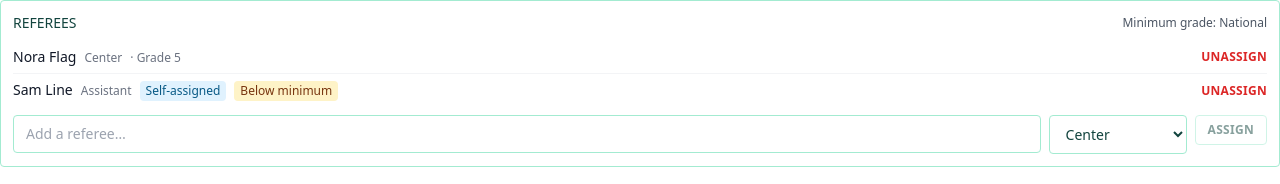
GameRefereesBlock › EDIT mode: lists assignments with role, grade, the self-assigned badge, and unassigns
This screenshot has width=1280, height=184.
Expected: the list item with test id "game-referee-2" shows "Nora Flag", [13,47,76,66]
Expected: the list item with test id "game-referee-2" shows "Center", [84,49,122,66]
Click the button "Unassign" in the row of "Sam Line" at (1234, 90), box [1201,82,1267,98]
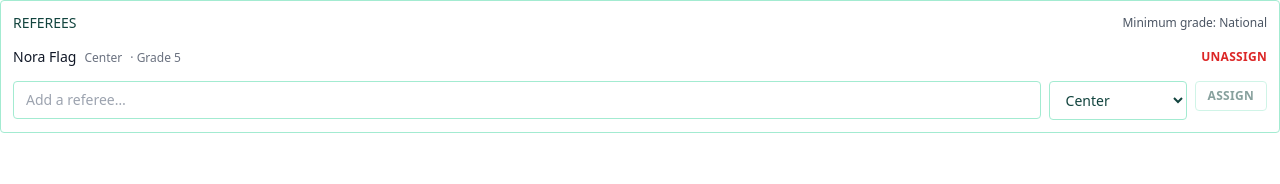
Expected: the list item with test id "game-referee-3" is gone
